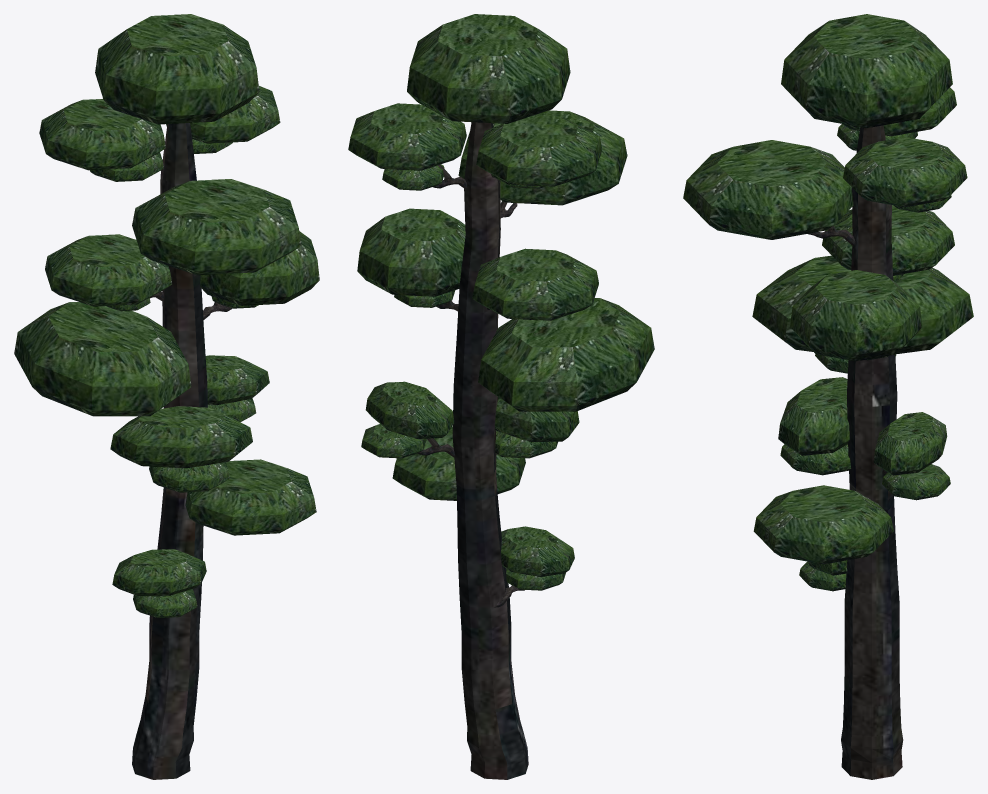
File: cay-tung-dang-truc.glb
3 views of the same model, side by side, from view 1: azimuth 30°, elevation 25°; view 2: azimuth 150°, elevation 25°; view 3: azimuth 270°, elevation 25° (orthographic).
Parts seen in each view (by area): view 1: Circle_067; view 2: Circle_067; view 3: Circle_067.
Boxes of the visible parts, x1,y1,x2,y2 form: Circle_067: (14, 14, 319, 779); Circle_067: (348, 14, 654, 779); Circle_067: (683, 14, 973, 779).
Bounding box in the file's own units: 2.63 × 6.61 × 2.36.
1 material, 1 textured.
